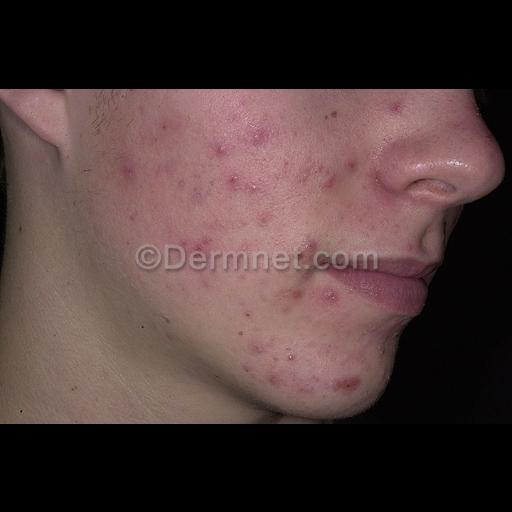Skin_Lesion: (232, 166, 264, 198), (247, 115, 273, 149), (186, 176, 210, 206), (188, 226, 210, 258), (111, 162, 145, 182), (294, 232, 320, 258), (211, 134, 231, 160), (336, 370, 356, 396), (159, 112, 181, 134), (385, 94, 407, 116), (198, 272, 216, 298), (320, 286, 342, 306), (252, 332, 268, 358), (322, 168, 338, 192), (240, 302, 256, 322), (178, 88, 222, 94), (371, 168, 385, 186), (290, 286, 304, 302), (346, 155, 358, 171), (322, 110, 334, 124), (244, 358, 254, 374)
